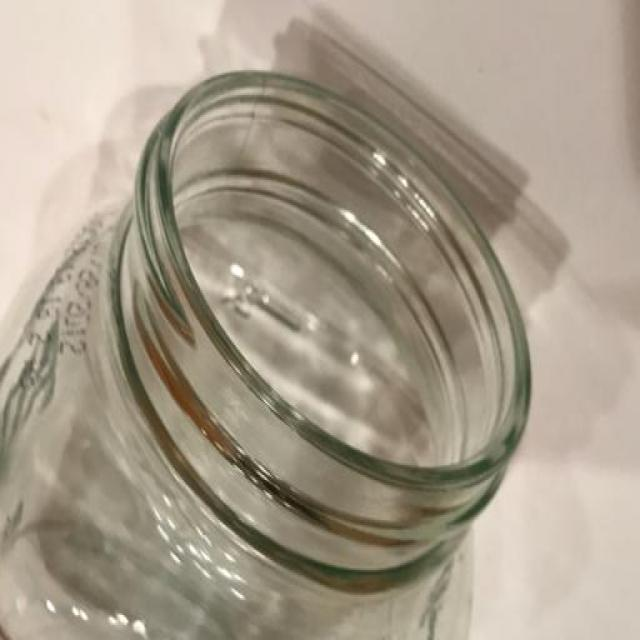glass: (1, 62, 583, 640)
